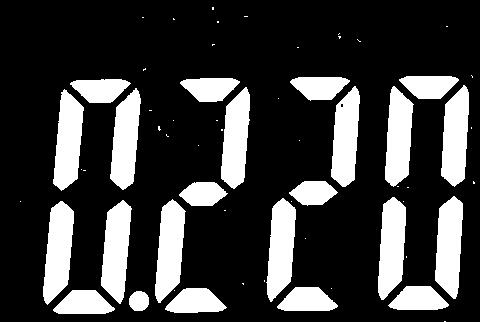0: (40, 74, 143, 314), (379, 73, 469, 310)
2: (263, 73, 364, 311), (154, 76, 252, 311)
dot: (127, 288, 151, 314)
